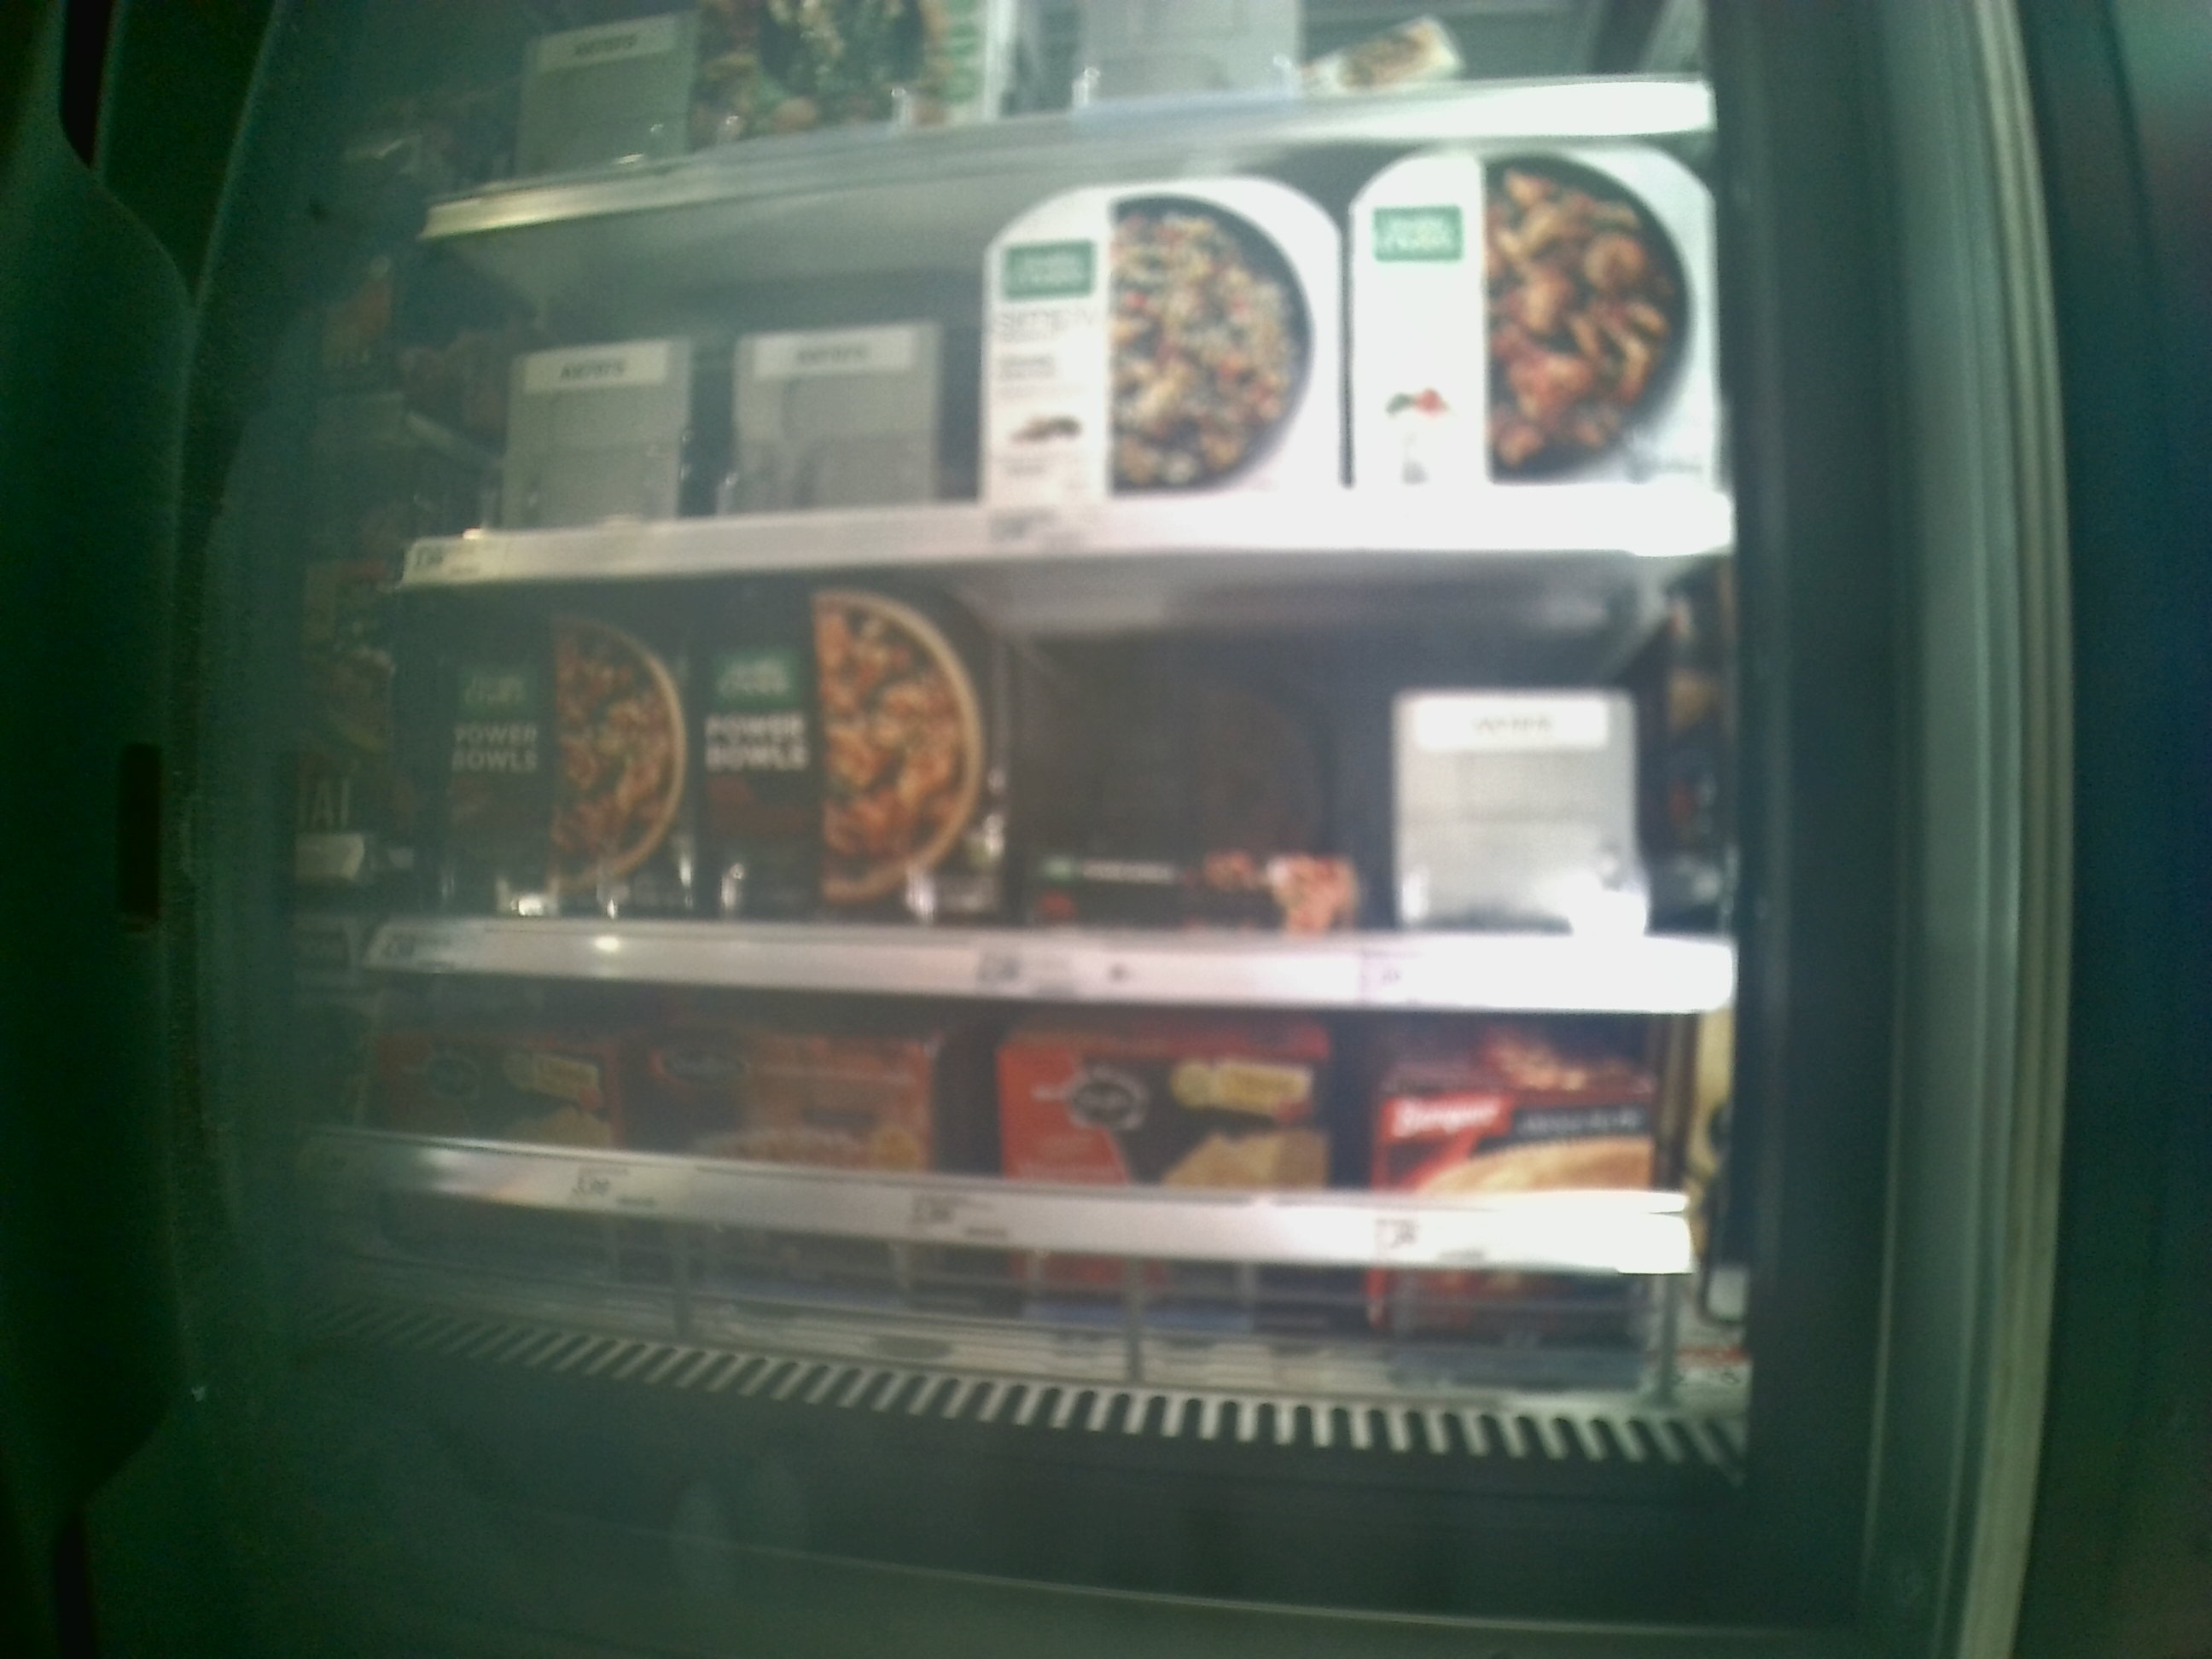shelf: (348, 972, 1749, 1446), (392, 542, 1737, 1012), (395, 124, 1740, 579)
